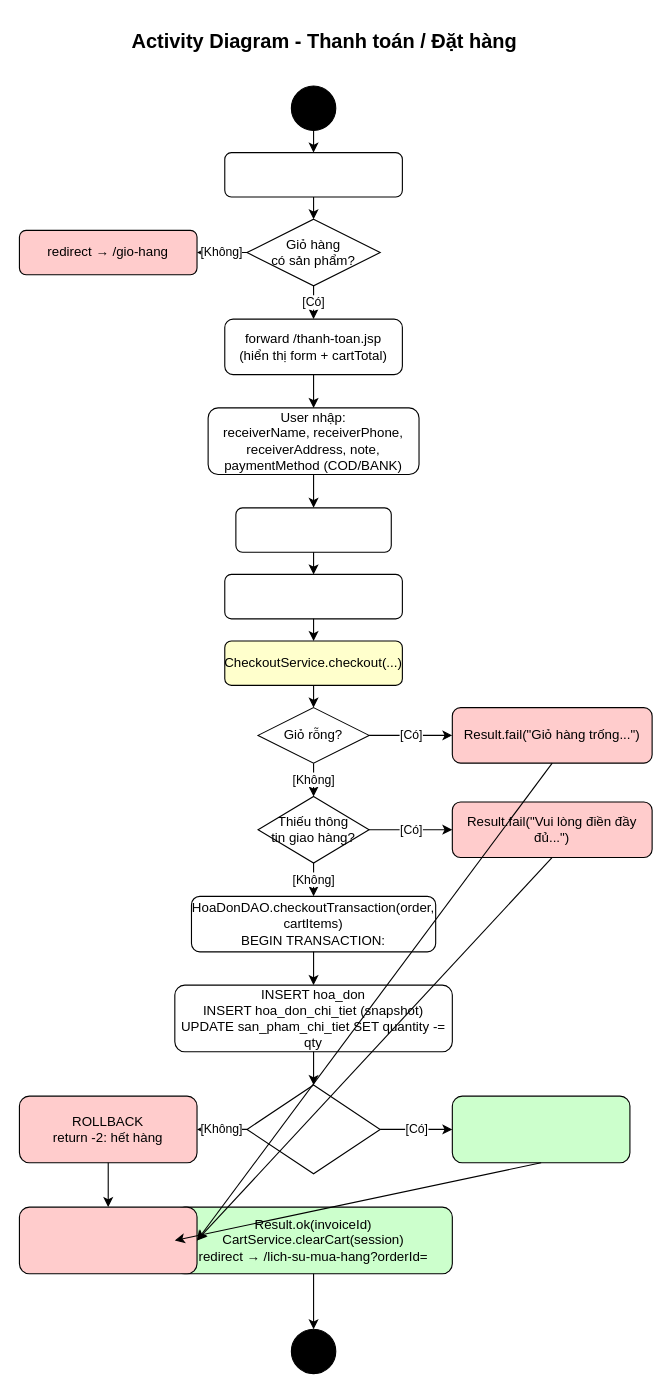
Image size: 672x1393. Some labels were removed from this diagram. Here are the shapes that lost their labels. From the top down, the centre of each, then its label:
At pixel 313 174: "User mở /thanh-toan (GET)".
At pixel 313 529: "POST /thanh-toan".
At pixel 313 596: "ThanhToanServlet.doPost()".
At pixel 313 1129: "Đủ tồn kho cho tất cả variant?".
At pixel 540 1129: "COMMIT return invoiceId".
At pixel 107 1240: "Set error forward /thanh-toan.jsp (giữ cartItems)".
